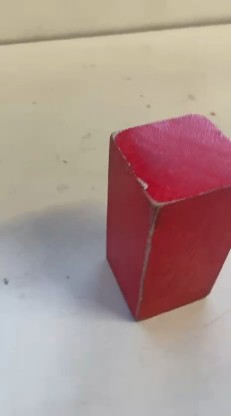red: (101, 104, 228, 318)
